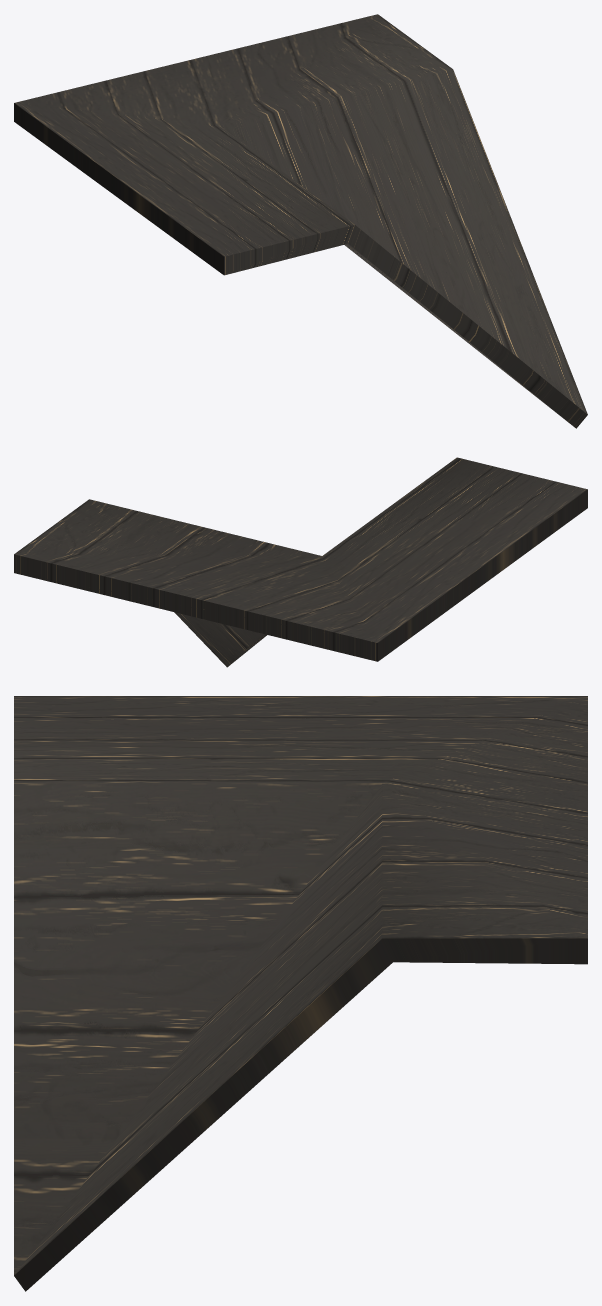
The model's file is Roof_3x3_Diag_Corner_In_Collider.FBX.
3 views of the same model, one above another, from view 1: azimuth 30°, elevation 25°; view 2: azimuth 150°, elevation 25°; view 3: azimuth 270°, elevation 25° (orthographic). The views are drawn at different scales.
Parts seen in each view (by area): view 1: Roof_3x3_Diag_Corner_In_Collider; view 2: Roof_3x3_Diag_Corner_In_Collider; view 3: Roof_3x3_Diag_Corner_In_Collider.
Part boxes in pixels (<box>): Roof_3x3_Diag_Corner_In_Collider: <box>14,14,587,428</box>; Roof_3x3_Diag_Corner_In_Collider: <box>14,457,587,667</box>; Roof_3x3_Diag_Corner_In_Collider: <box>14,696,587,1291</box>.
Size of the model in its own units: 300 by 206 by 300.
